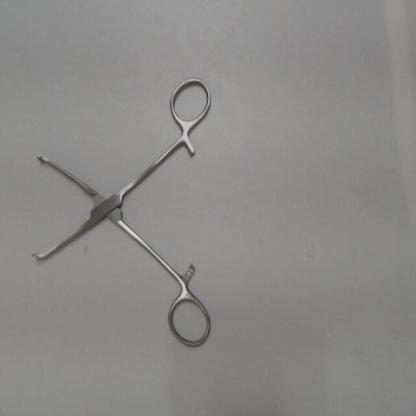Allis Tissue Forceps: (27, 67, 215, 354)
